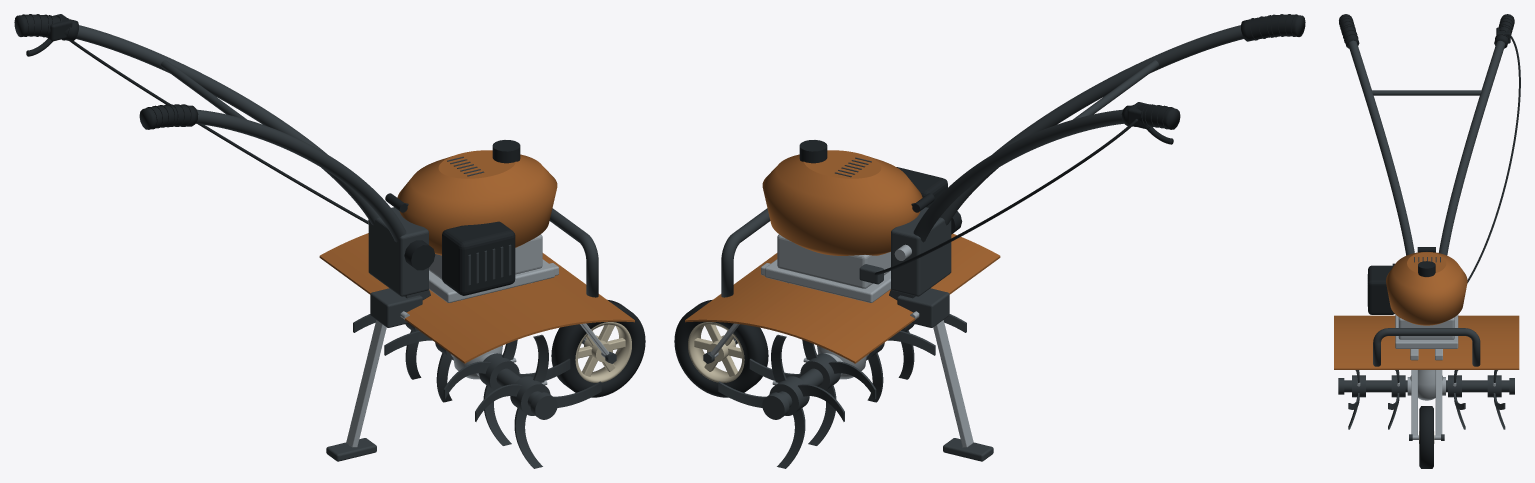
The picture shows the model from 3 angles, left to right: view 1: azimuth 30°, elevation 25°; view 2: azimuth 150°, elevation 25°; view 3: azimuth 270°, elevation 25°; orthographic projection. The views are drawn at different scales.
Visible parts, largest first — view 1: Curved full width tine fender, Rounded engine cowl, Dark side air filter housing, Rising tubular handlebar 1, Rising tubular handlebar -1, Handle folding hinge block, Transport rubber tire, Rear depth bar, Rear depth bar clamp, Engine base plate, Forward carry bumper loop, External control cable (+10 smaller); view 2: Rounded engine cowl, Curved full width tine fender, Rising tubular handlebar -1, Rising tubular handlebar 1, Handle folding hinge block, Transport rubber tire, Generic lower engine block, Engine base plate, Rear depth bar, Rear depth bar clamp, Forward carry bumper loop, Textured handgrip -1 (+9 smaller); view 3: Curved full width tine fender, Rounded engine cowl, Rising tubular handlebar 1, Rising tubular handlebar -1, Forward carry bumper loop, Dark side air filter housing, Transverse tine axle, Transport rubber tire, Engine base plate, External control cable, Handlebar transverse brace, Central cast gearbox (+10 smaller).
Part boxes in pixels (<box>): Curved full width tine fender: <box>319,233,634,363</box>; Rounded engine cowl: <box>397,150,557,255</box>; Dark side air filter housing: <box>442,221,515,295</box>; Rising tubular handlebar 1: <box>76,25,379,225</box>; Rising tubular handlebar -1: <box>196,109,406,242</box>; Handle folding hinge block: <box>368,207,428,296</box>; Transport rubber tire: <box>551,299,645,397</box>; Rear depth bar: <box>346,320,386,447</box>; Rear depth bar clamp: <box>370,288,422,327</box>; Engine base plate: <box>429,259,554,302</box>; Forward carry bumper loop: <box>549,208,598,297</box>; External control cable: <box>69,41,367,223</box>; Rounded engine cowl: <box>762,150,922,255</box>; Curved full width tine fender: <box>685,233,1000,363</box>; Rising tubular handlebar -1: <box>940,25,1243,225</box>; Rising tubular handlebar 1: <box>913,109,1123,242</box>; Handle folding hinge block: <box>891,207,951,296</box>; Transport rubber tire: <box>674,299,768,397</box>; Generic lower engine block: <box>777,234,890,288</box>; Engine base plate: <box>765,259,890,302</box>; Rear depth bar: <box>933,320,973,447</box>; Rear depth bar clamp: <box>897,288,949,327</box>; Forward carry bumper loop: <box>721,208,770,297</box>; Textured handgrip -1: <box>1241,14,1305,41</box>; Curved full width tine fender: <box>1334,315,1519,369</box>; Rounded engine cowl: <box>1386,252,1467,325</box>; Rising tubular handlebar 1: <box>1438,40,1505,255</box>; Rising tubular handlebar -1: <box>1348,40,1414,255</box>; Forward carry bumper loop: <box>1373,328,1480,366</box>; Dark side air filter housing: <box>1368,265,1394,314</box>; Transverse tine axle: <box>1344,380,1509,392</box>; Transport rubber tire: <box>1419,406,1433,468</box>; Engine base plate: <box>1395,314,1458,348</box>; External control cable: <box>1467,35,1520,283</box>; Handlebar transverse brace: <box>1371,90,1481,95</box>; Central cast gearbox: <box>1410,370,1443,400</box>.
Bounding box in the file's own units: 125 × 97.15 × 56.44.
